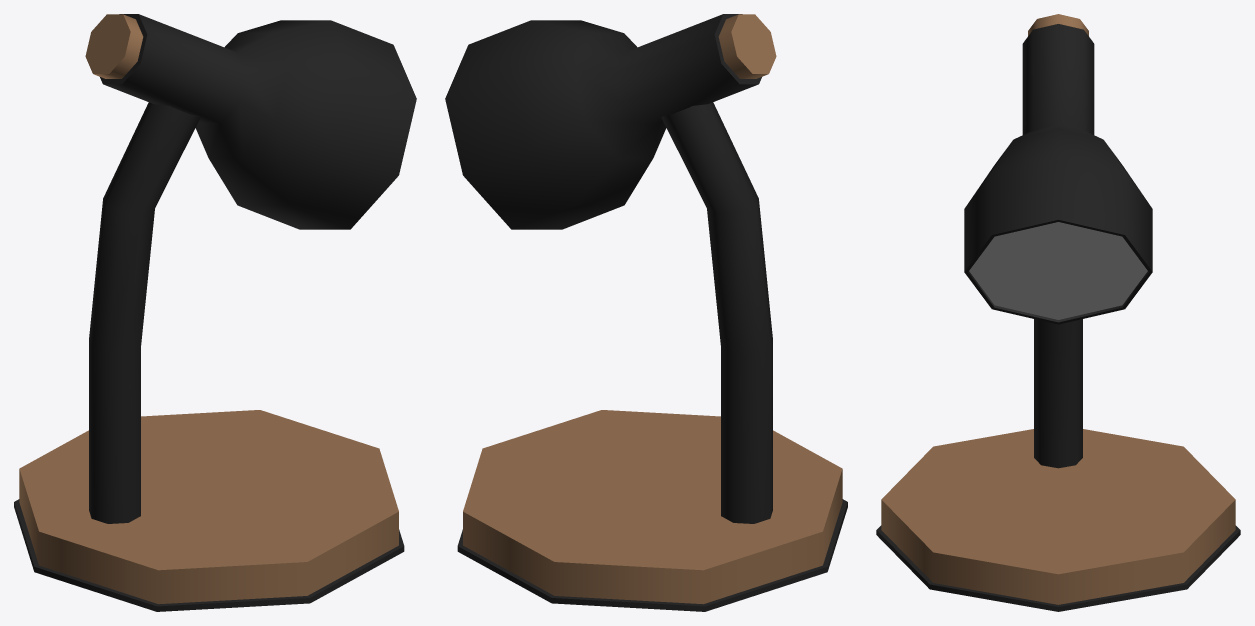
Rendered from LampadaDeMesa.fbx.
The picture shows the model from 3 angles, left to right: view 1: azimuth 30°, elevation 25°; view 2: azimuth 150°, elevation 25°; view 3: azimuth 270°, elevation 25°; orthographic projection. The views are drawn at different scales.
Visible parts, largest first — view 1: LampadaDeMesa; view 2: LampadaDeMesa; view 3: LampadaDeMesa.
Part boxes in pixels (x1,y1,x2,y2): LampadaDeMesa: (14, 14, 416, 611); LampadaDeMesa: (445, 14, 847, 611); LampadaDeMesa: (876, 14, 1240, 611).
Size of the model in its own units: 250 by 357 by 244.
